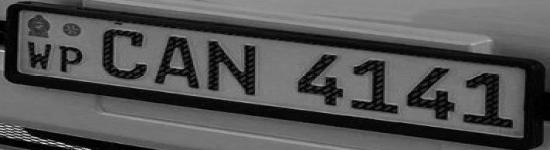1: (459, 67, 520, 129), (348, 53, 404, 115)
4: (404, 60, 460, 124), (294, 52, 348, 108)
A: (153, 31, 204, 90)
C: (97, 27, 153, 79)
N: (203, 37, 264, 97)
P: (57, 45, 87, 73)
W: (24, 39, 57, 70)
